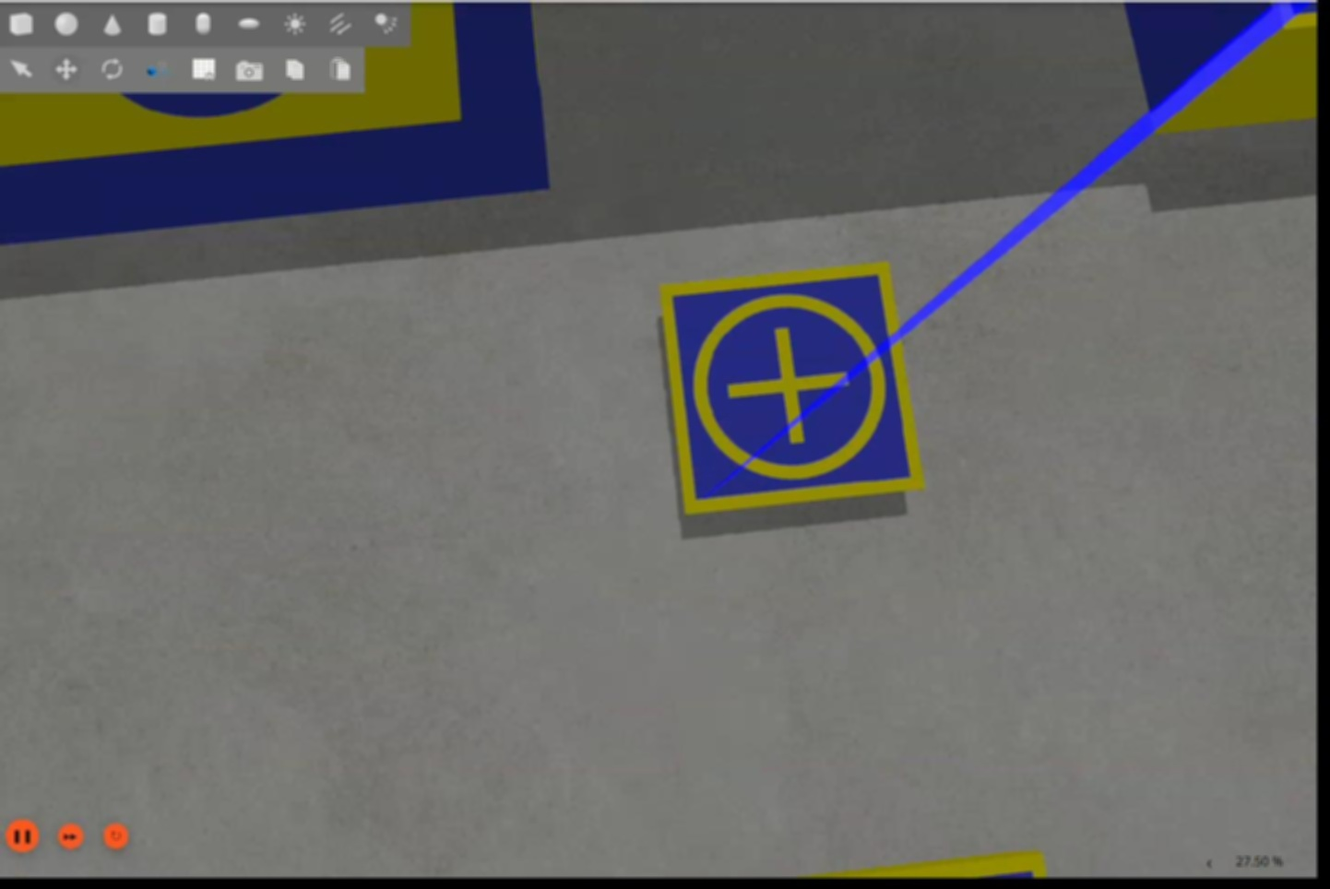large_base: (1, 1, 554, 251)
small_base: (662, 262, 930, 516)
